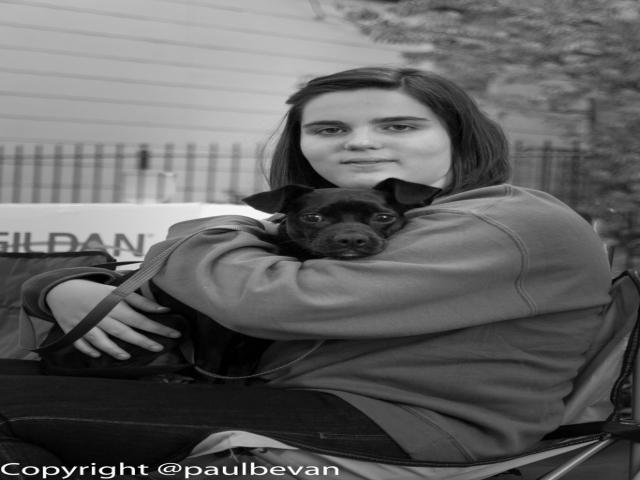Dog: (35, 176, 459, 381)
